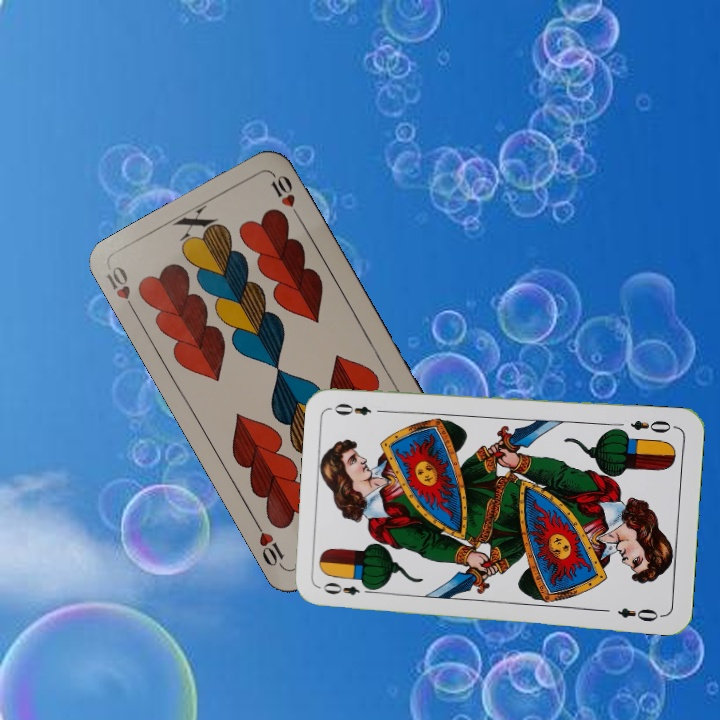EO: (319, 578, 377, 598), (626, 416, 679, 435)
H10: (101, 262, 140, 318)
